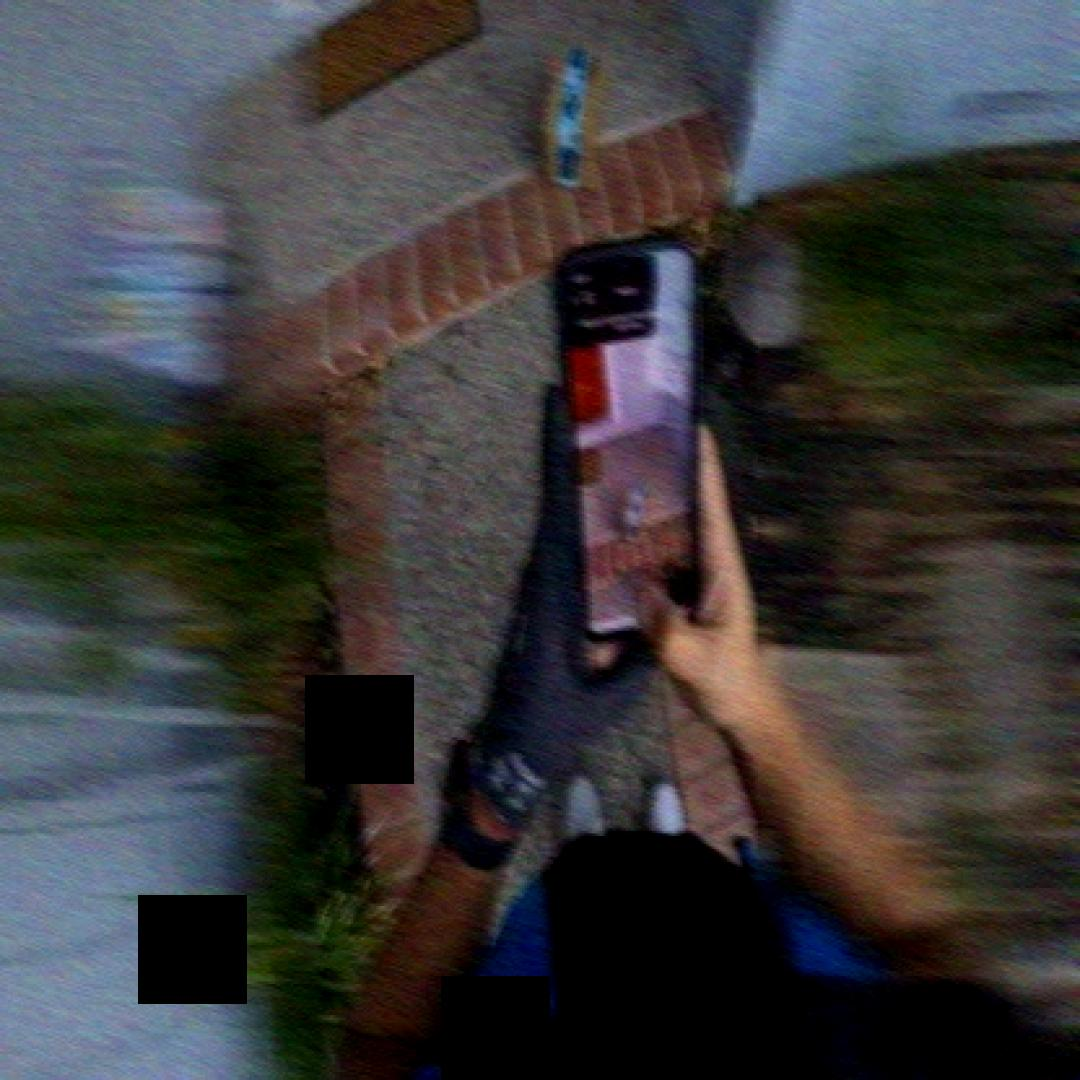package: (543, 39, 615, 202), (618, 478, 659, 550)
